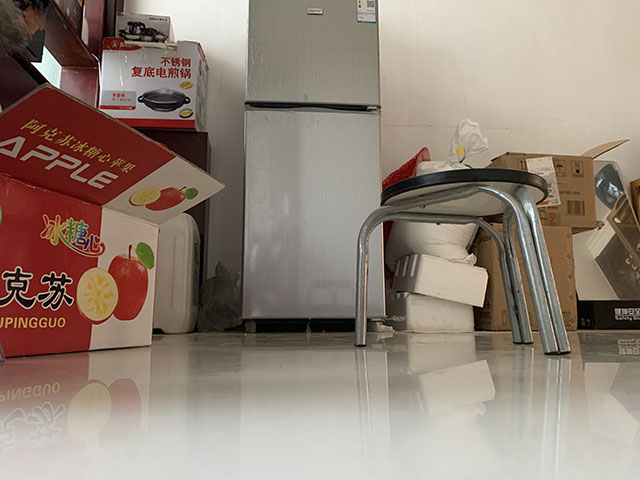stool: (352, 167, 572, 357)
